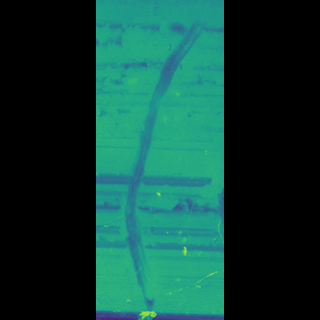Loch: (138, 4, 182, 319)
